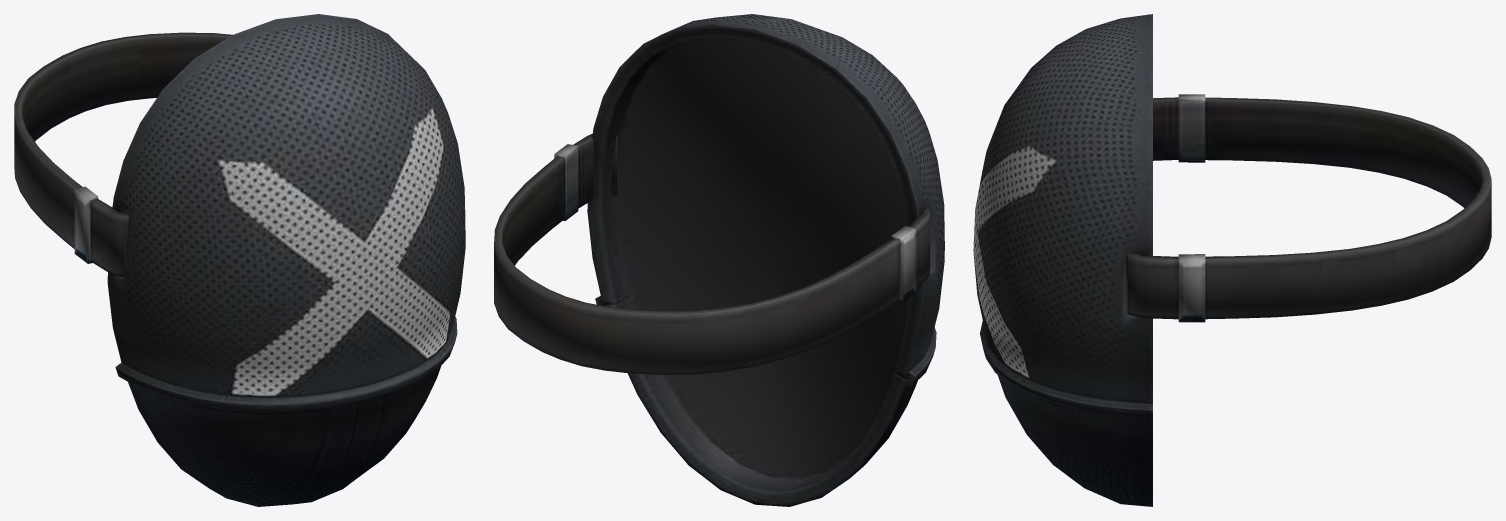
The picture shows the model from 3 angles, left to right: view 1: azimuth 30°, elevation 25°; view 2: azimuth 150°, elevation 25°; view 3: azimuth 270°, elevation 25°; orthographic projection. The views are drawn at different scales.
Parts seen in each view (by area): view 1: Wolf3D_Facewear.006; view 2: Wolf3D_Facewear.006; view 3: Wolf3D_Facewear.006.
Boxes of the visible parts, left/top/right/bottom form: Wolf3D_Facewear.006: left=14, top=14, right=465, bottom=506; Wolf3D_Facewear.006: left=494, top=14, right=944, bottom=506; Wolf3D_Facewear.006: left=973, top=14, right=1491, bottom=506.
Size of the model in its own units: 0.1815 by 0.2365 by 0.2399.
1 material, 1 textured.
